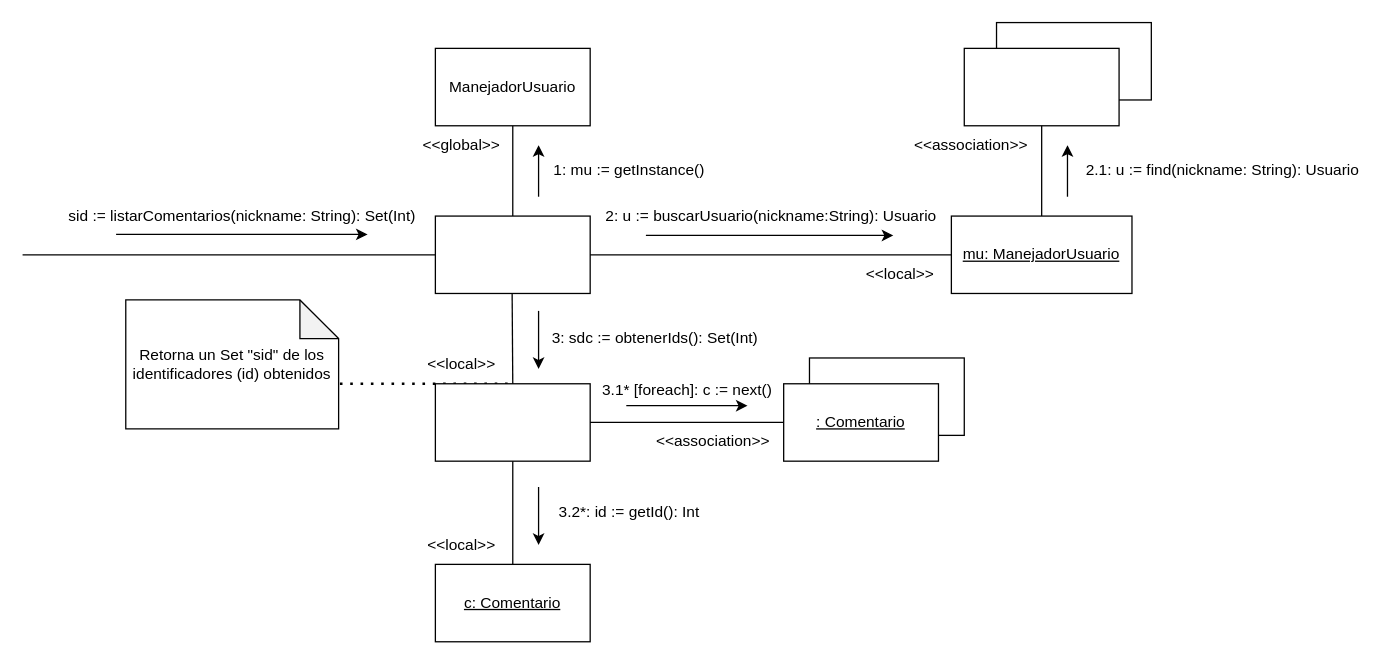
The diagram is 1400 pixels wide and 664 high, and some of its shapes have lost their labels. Here are the shapes that lost their labels. From the top down, the centre of each, then its label:
point 1041,86: usuarios: Usuario
point 512,254: : CtrlComentario
point 512,421: u : Usuario
